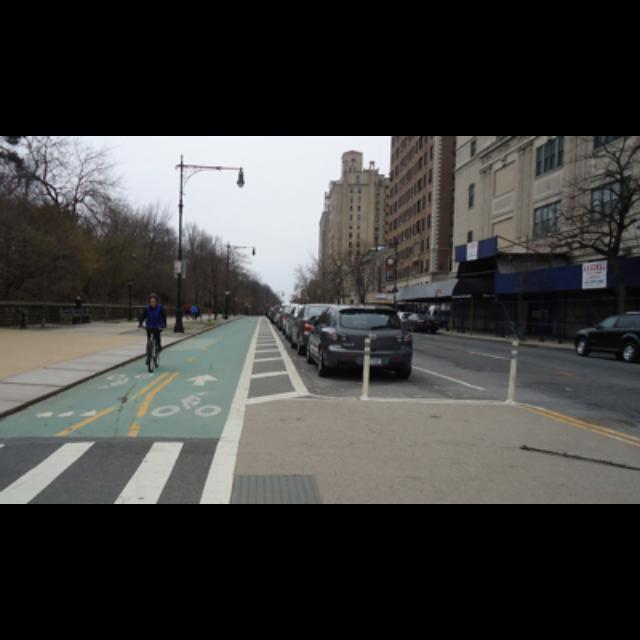Without Helmet: (144, 291, 160, 309)
